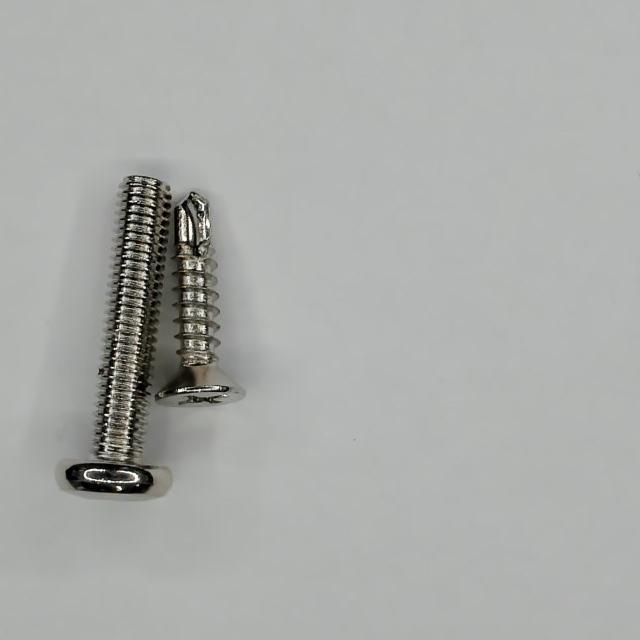Screw: (65, 175, 171, 496), (155, 192, 245, 406)
